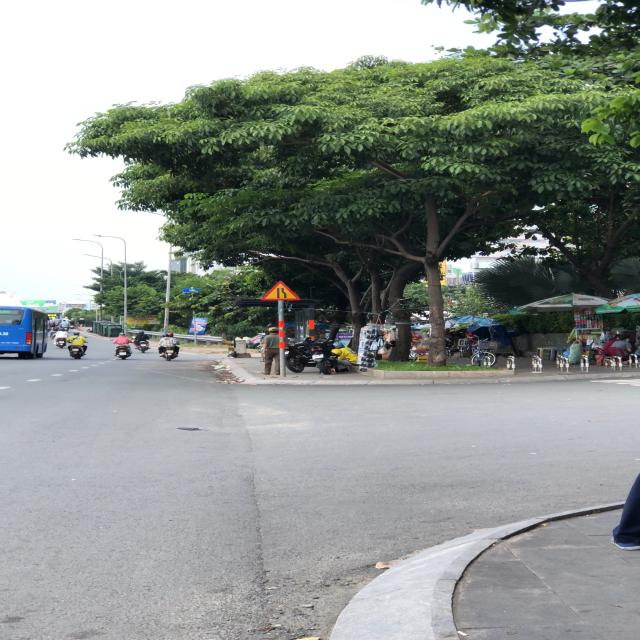Bien bao duong bi thu hep: (260, 279, 303, 301)
